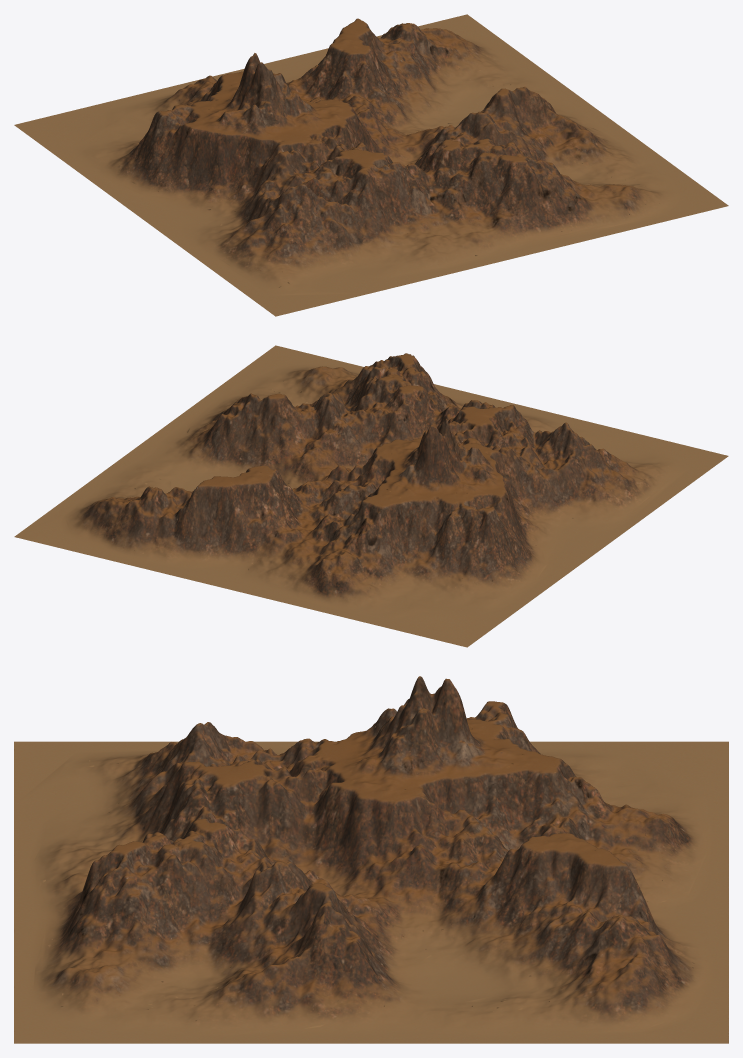
Rendered from red_sand_desert_canyon.glb.
3 views of the same model, one above another, from view 1: azimuth 30°, elevation 25°; view 2: azimuth 150°, elevation 25°; view 3: azimuth 270°, elevation 25° (orthographic). The views are drawn at different scales.
Parts seen in each view (by area): view 1: Material_001-material (×3); view 2: Material_001-material (×3); view 3: Material_001-material (×3).
Boxes of the visible parts, x1,y1,x2,y2 form: Material_001-material (×3): (14, 14, 728, 316); Material_001-material (×3): (14, 345, 728, 647); Material_001-material (×3): (14, 676, 728, 1043).
Size of the model in its own units: 20.33 by 4.86 by 20.33.
Materials: 1 (1 with a texture image).
